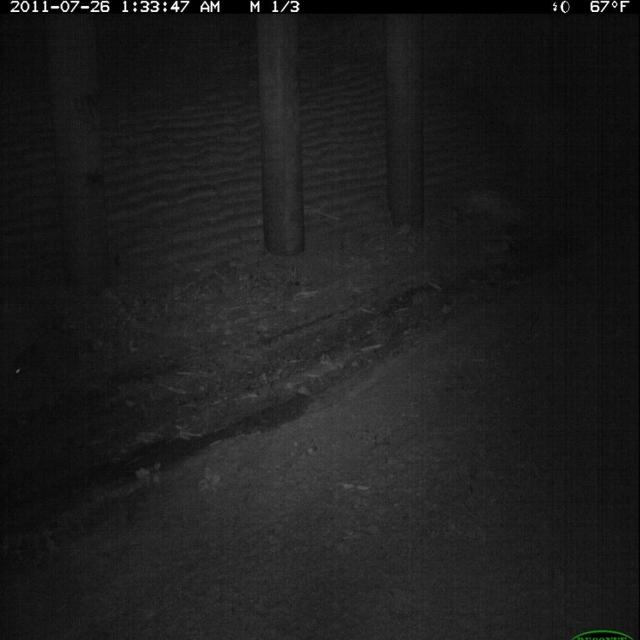raccoon: (7, 326, 78, 405)
